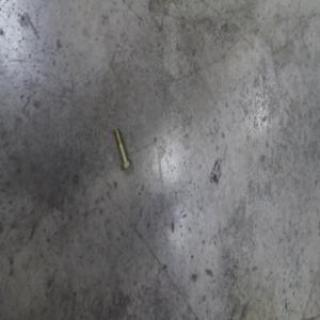Bolttrack_idkeyframe: (112, 126, 131, 172)
